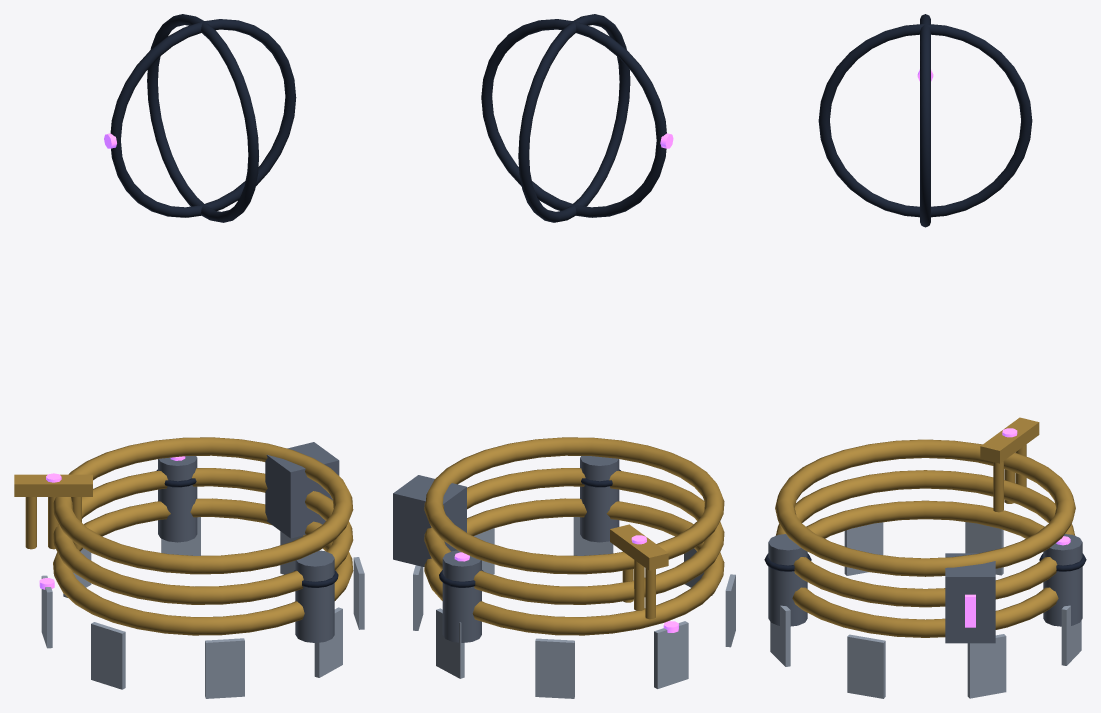
Rendered from tower_singularity_rate_s6.glb.
The picture shows the model from 3 angles, left to right: view 1: azimuth 30°, elevation 25°; view 2: azimuth 150°, elevation 25°; view 3: azimuth 270°, elevation 25°; orthographic projection.
Parts seen in each view (by area): view 1: singularity_stem_coil2, singularity_stem_coil1, singularity_stem_coil0, singularity_core_cage_b, singularity_core_cage_c, singularity_stem_junction, singularity_stem_cap4.363323129985824, singularity_stem_cap1.9198621771937625, singularity_stem_fin6, singularity_stem_fin7, singularity_manifold_header, singularity_stem_fin5 (+4 smaller); view 2: singularity_stem_coil2, singularity_stem_coil1, singularity_stem_coil0, singularity_core_cage_b, singularity_core_cage_c, singularity_stem_junction, singularity_stem_cap1.9198621771937625, singularity_stem_cap4.363323129985824, singularity_stem_fin1, singularity_stem_fin0, singularity_manifold_header, singularity_stem_fin2 (+4 smaller); view 3: singularity_stem_coil2, singularity_stem_coil1, singularity_stem_coil0, singularity_core_cage_c, singularity_stem_junction, singularity_stem_cap4.363323129985824, singularity_stem_cap1.9198621771937625, singularity_stem_fin4, singularity_core_cage_b, singularity_stem_fin3, singularity_manifold_header, singularity_stem_fin7 (+4 smaller).
Boxes of the visible parts, <box> form: singularity_stem_coil2: <box>53,437,353,574</box>; singularity_stem_coil1: <box>53,468,353,604</box>; singularity_stem_coil0: <box>53,498,353,635</box>; singularity_core_cage_b: <box>110,19,296,217</box>; singularity_core_cage_c: <box>147,14,258,222</box>; singularity_stem_junction: <box>265,442,339,538</box>; singularity_stem_cap4.363323129985824: <box>295,550,334,642</box>; singularity_stem_cap1.9198621771937625: <box>158,456,197,542</box>; singularity_stem_fin6: <box>205,638,244,698</box>; singularity_stem_fin7: <box>91,622,125,689</box>; singularity_manifold_header: <box>14,474,92,496</box>; singularity_stem_fin5: <box>314,607,342,677</box>; singularity_stem_coil2: <box>424,437,724,574</box>; singularity_stem_coil1: <box>424,468,724,604</box>; singularity_stem_coil0: <box>424,498,724,635</box>; singularity_core_cage_b: <box>481,19,666,217</box>; singularity_core_cage_c: <box>518,14,630,222</box>; singularity_stem_junction: <box>393,475,466,567</box>; singularity_stem_cap1.9198621771937625: <box>442,550,481,642</box>; singularity_stem_cap4.363323129985824: <box>580,456,619,542</box>; singularity_stem_fin1: <box>535,638,574,698</box>; singularity_stem_fin0: <box>654,621,688,688</box>; singularity_manifold_header: <box>610,524,668,570</box>; singularity_stem_fin2: <box>436,608,464,678</box>; singularity_stem_coil2: <box>775,439,1075,576</box>; singularity_stem_coil1: <box>775,470,1075,607</box>; singularity_stem_coil0: <box>792,500,1058,637</box>; singularity_core_cage_c: <box>818,24,1032,217</box>; singularity_stem_junction: <box>945,553,995,643</box>; singularity_stem_cap4.363323129985824: <box>768,534,807,626</box>; singularity_stem_cap1.9198621771937625: <box>1043,534,1082,626</box>; singularity_stem_fin4: <box>847,634,885,698</box>; singularity_core_cage_b: <box>920,14,930,227</box>; singularity_stem_fin3: <box>967,634,1006,698</box>; singularity_manifold_header: <box>980,417,1039,463</box>; singularity_stem_fin7: <box>844,522,883,575</box>.
Bounding box in the file's own units: 1.2 × 2.39 × 1.15.
